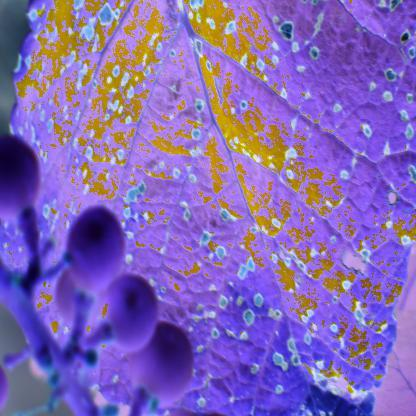grape leaf: (20, 4, 398, 416)
